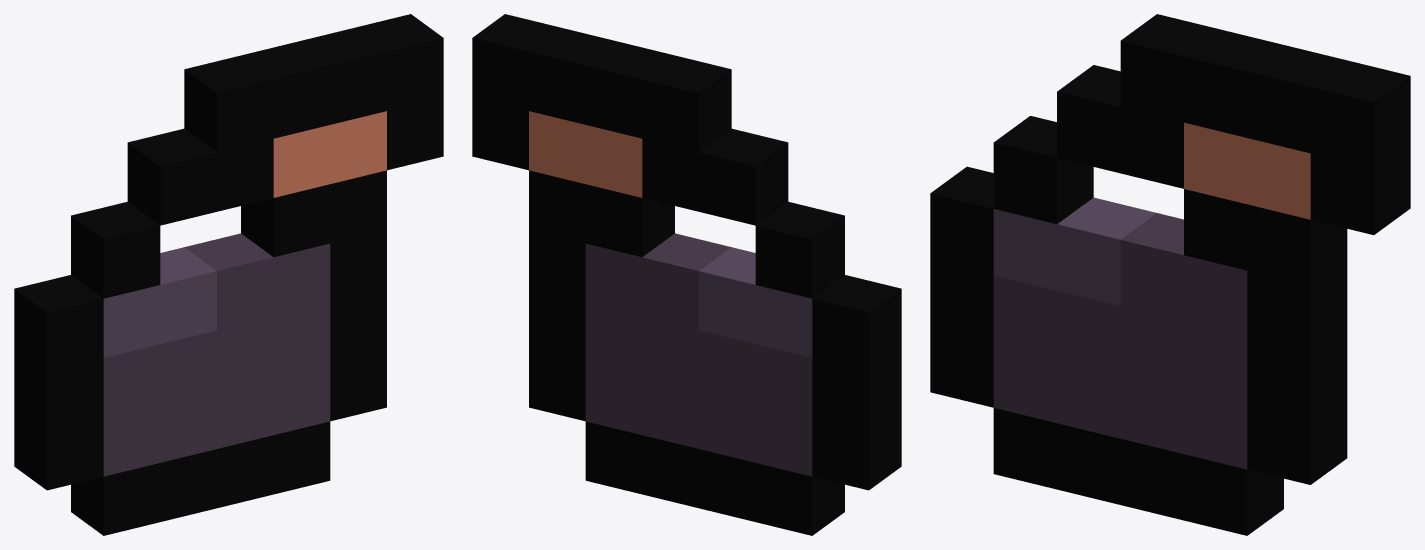
The model's file is Splash Slowness Potion.glb.
The picture shows the model from 3 angles, left to right: view 1: azimuth 30°, elevation 25°; view 2: azimuth 150°, elevation 25°; view 3: azimuth 330°, elevation 25°; orthographic projection. The views are drawn at different scales.
Visible parts, largest first — view 1: generated(Clone); view 2: generated(Clone); view 3: generated(Clone).
Boxes of the visible parts, box(x1,y1,x2,y2) form: generated(Clone): box(14, 14, 443, 535); generated(Clone): box(472, 14, 901, 535); generated(Clone): box(930, 14, 1410, 535).
Size of the model in its own units: 7 by 7 by 1.
1 material, 1 textured.
